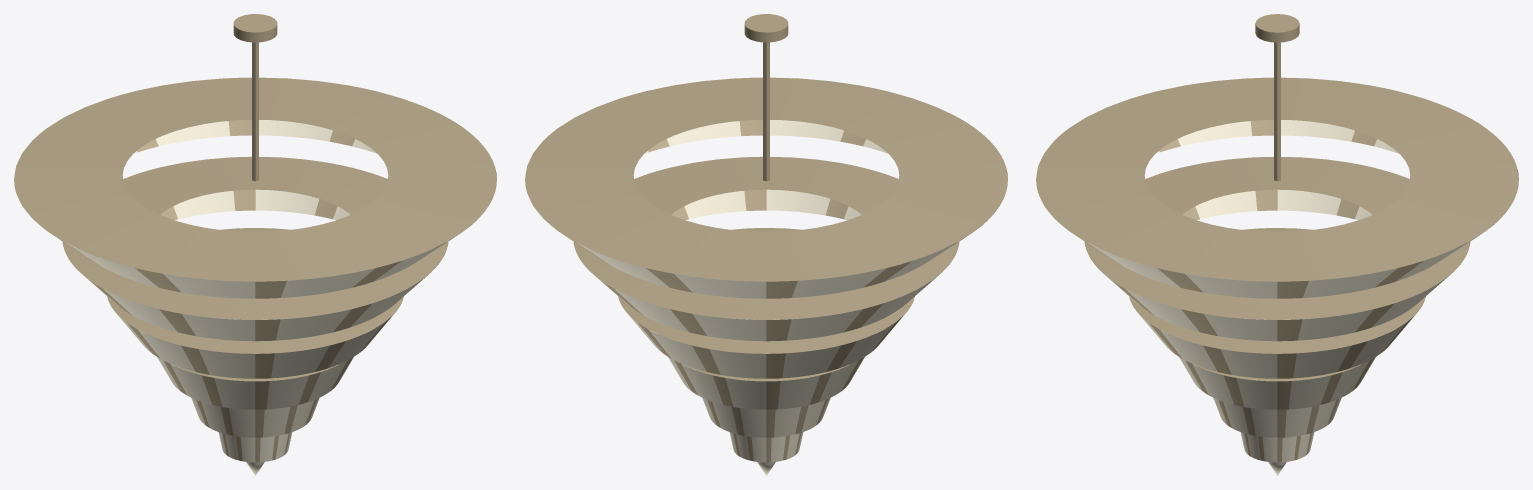
Rendered from KC32__AD_Int_Chandelier_Rings.glb.
3 renders of one model, left to right at view 1: azimuth 30°, elevation 25°; view 2: azimuth 150°, elevation 25°; view 3: azimuth 270°, elevation 25°, orthographic.
Visible parts, largest first — view 1: KC32_BRONZE__AD_Int_Chandelier_Rings, KC32_LUMIERE__AD_Int_Chandelier_Rings; view 2: KC32_BRONZE__AD_Int_Chandelier_Rings, KC32_LUMIERE__AD_Int_Chandelier_Rings; view 3: KC32_BRONZE__AD_Int_Chandelier_Rings, KC32_LUMIERE__AD_Int_Chandelier_Rings.
Part boxes in pixels (x1,y1,x2,y2): KC32_BRONZE__AD_Int_Chandelier_Rings: [14, 14, 496, 462]; KC32_LUMIERE__AD_Int_Chandelier_Rings: [14, 77, 496, 475]; KC32_BRONZE__AD_Int_Chandelier_Rings: [525, 14, 1007, 462]; KC32_LUMIERE__AD_Int_Chandelier_Rings: [525, 77, 1007, 475]; KC32_BRONZE__AD_Int_Chandelier_Rings: [1036, 14, 1518, 462]; KC32_LUMIERE__AD_Int_Chandelier_Rings: [1036, 77, 1518, 475].
Bounding box in the file's own units: 3.5 × 3.62 × 3.5.
